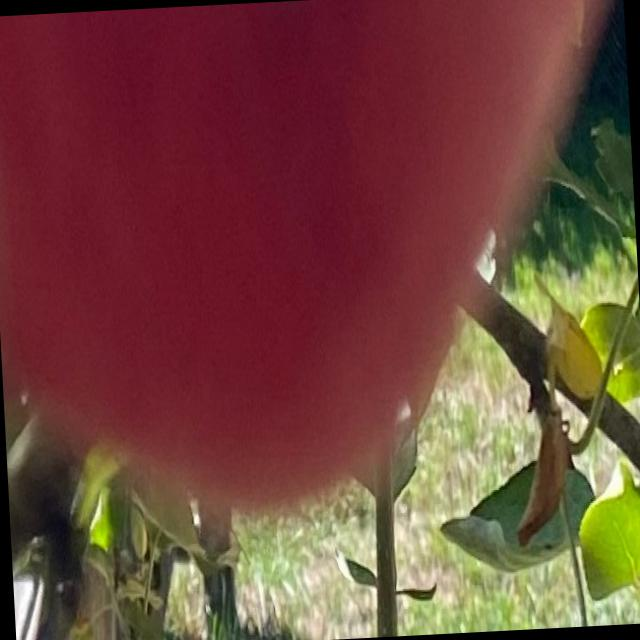Apples: (0, 0, 629, 518)
